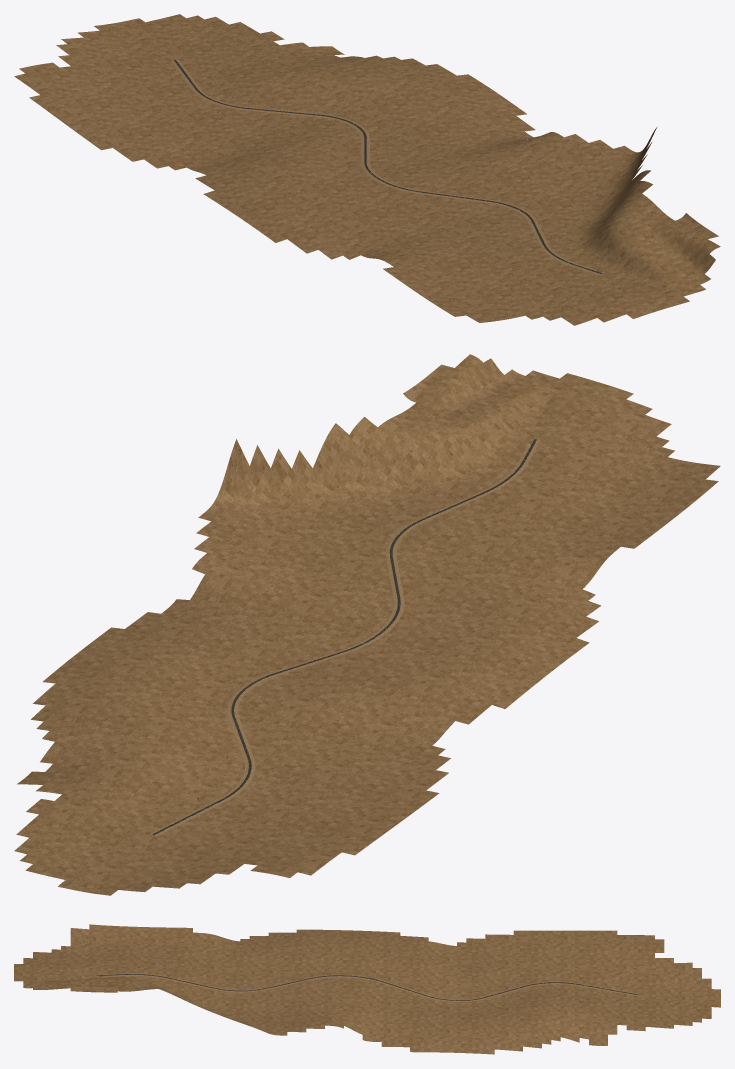
The picture shows the model from 3 angles, top to bottom: view 1: azimuth 30°, elevation 25°; view 2: azimuth 150°, elevation 25°; view 3: azimuth 270°, elevation 25°; orthographic projection. The views are drawn at different scales.
Parts seen in each view (by area): view 1: S02_TERRAIN_LOD0_WEB_EXPORT, V2_LANDFORM_S02_CUT_FILL_LEFT_WEB_EXPORT, V2_LANDFORM_S02_CUT_FILL_RIGHT_WEB_EXPORT, S02_ROAD_ASPHALT_LOD0_WEB_EXPORT; view 2: S02_TERRAIN_LOD0_WEB_EXPORT, V2_LANDFORM_S02_CUT_FILL_LEFT_WEB_EXPORT, V2_LANDFORM_S02_CUT_FILL_RIGHT_WEB_EXPORT, S02_ROAD_ASPHALT_LOD0_WEB_EXPORT; view 3: S02_TERRAIN_LOD0_WEB_EXPORT, V2_LANDFORM_S02_CUT_FILL_RIGHT_WEB_EXPORT, V2_LANDFORM_S02_CUT_FILL_LEFT_WEB_EXPORT, S02_ROAD_ASPHALT_LOD0_WEB_EXPORT.
Boxes of the visible parts, bbox=[...] form: S02_TERRAIN_LOD0_WEB_EXPORT: bbox=[14, 14, 720, 325]; V2_LANDFORM_S02_CUT_FILL_LEFT_WEB_EXPORT: bbox=[171, 60, 600, 274]; V2_LANDFORM_S02_CUT_FILL_RIGHT_WEB_EXPORT: bbox=[176, 59, 604, 273]; S02_ROAD_ASPHALT_LOD0_WEB_EXPORT: bbox=[174, 60, 602, 273]; S02_TERRAIN_LOD0_WEB_EXPORT: bbox=[14, 354, 720, 895]; V2_LANDFORM_S02_CUT_FILL_LEFT_WEB_EXPORT: bbox=[155, 439, 540, 836]; V2_LANDFORM_S02_CUT_FILL_RIGHT_WEB_EXPORT: bbox=[150, 439, 533, 834]; S02_ROAD_ASPHALT_LOD0_WEB_EXPORT: bbox=[152, 439, 536, 834]; S02_TERRAIN_LOD0_WEB_EXPORT: bbox=[14, 924, 720, 1054]; V2_LANDFORM_S02_CUT_FILL_RIGHT_WEB_EXPORT: bbox=[97, 975, 636, 1001]; V2_LANDFORM_S02_CUT_FILL_LEFT_WEB_EXPORT: bbox=[96, 973, 637, 1000]; S02_ROAD_ASPHALT_LOD0_WEB_EXPORT: bbox=[96, 974, 636, 1000].
Size of the model in its own units: 1280 by 313 by 3000.
Materials: 12 (9 with a texture image).
